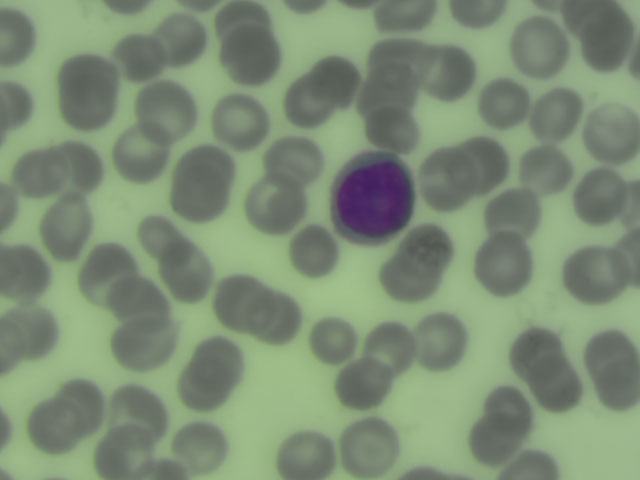RBC: (388, 232, 448, 300), (101, 383, 171, 439), (174, 151, 230, 218), (287, 63, 348, 124), (588, 334, 640, 405), (246, 176, 300, 234), (172, 424, 224, 480), (97, 424, 149, 480), (277, 430, 335, 480), (287, 224, 339, 279), (366, 320, 418, 375), (335, 352, 387, 407), (343, 418, 395, 473), (304, 309, 356, 364), (248, 288, 300, 343), (212, 274, 264, 329), (466, 411, 518, 466), (481, 378, 533, 433), (531, 355, 583, 410), (512, 326, 564, 381), (478, 238, 530, 293), (490, 186, 542, 241), (569, 247, 621, 302), (574, 170, 626, 225), (520, 142, 572, 197), (588, 101, 640, 156), (533, 86, 585, 141), (577, 7, 629, 62), (514, 23, 566, 78), (462, 136, 514, 191), (419, 152, 471, 207), (366, 104, 418, 159), (360, 62, 412, 117), (371, 34, 423, 89), (429, 49, 481, 104), (482, 74, 534, 129), (225, 27, 277, 82), (160, 246, 212, 301), (115, 126, 167, 181), (142, 81, 194, 136), (187, 345, 239, 400), (53, 378, 105, 433), (24, 399, 76, 454), (115, 318, 167, 373), (80, 248, 132, 303), (1, 306, 53, 361), (41, 200, 93, 255), (53, 141, 105, 196), (6, 145, 58, 200), (155, 13, 207, 68), (110, 33, 162, 88), (59, 62, 111, 117), (268, 132, 320, 187), (212, 93, 264, 148), (421, 317, 473, 372), (1, 244, 51, 299), (117, 276, 167, 330), (1, 3, 40, 68), (500, 446, 563, 480), (137, 210, 181, 254), (374, 1, 439, 30), (1, 79, 35, 132), (220, 1, 272, 31), (449, 1, 505, 26)
WBC: (335, 156, 416, 243)
